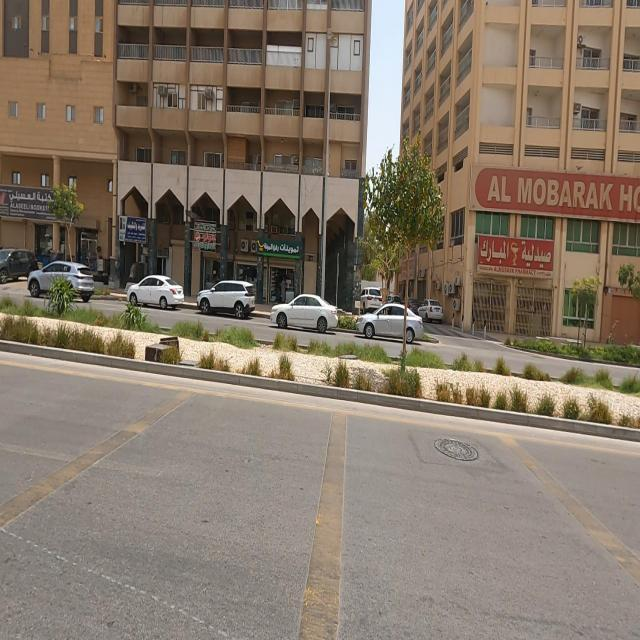debris: (400, 135, 640, 244)
